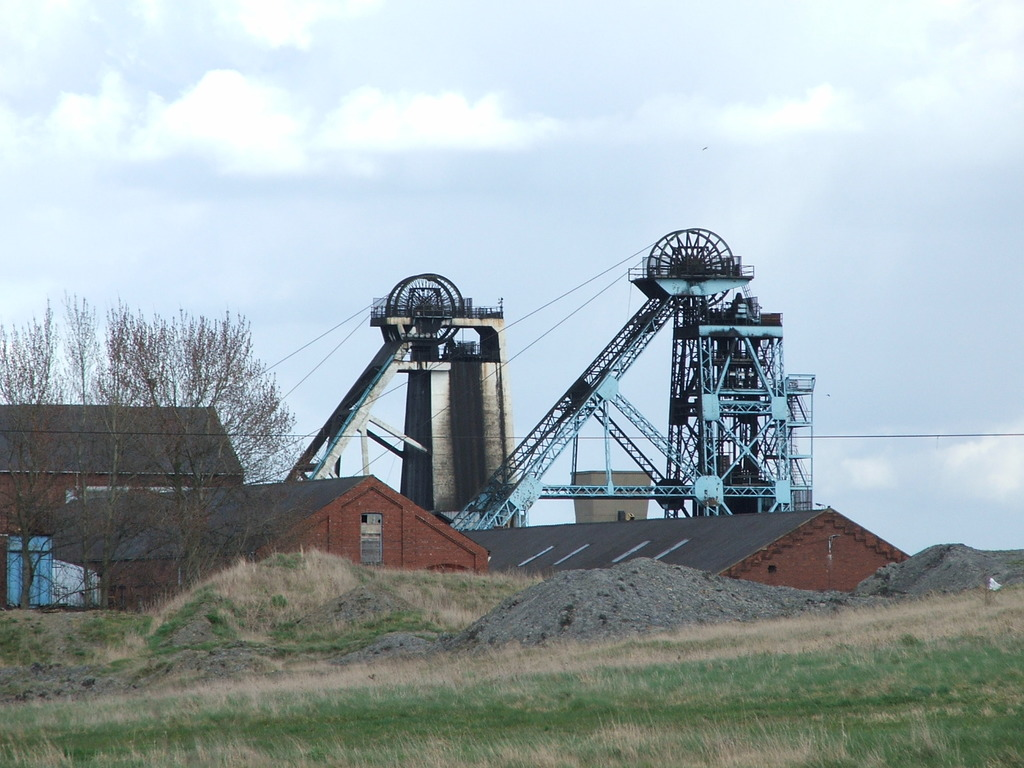Tree: (1, 284, 323, 610)
